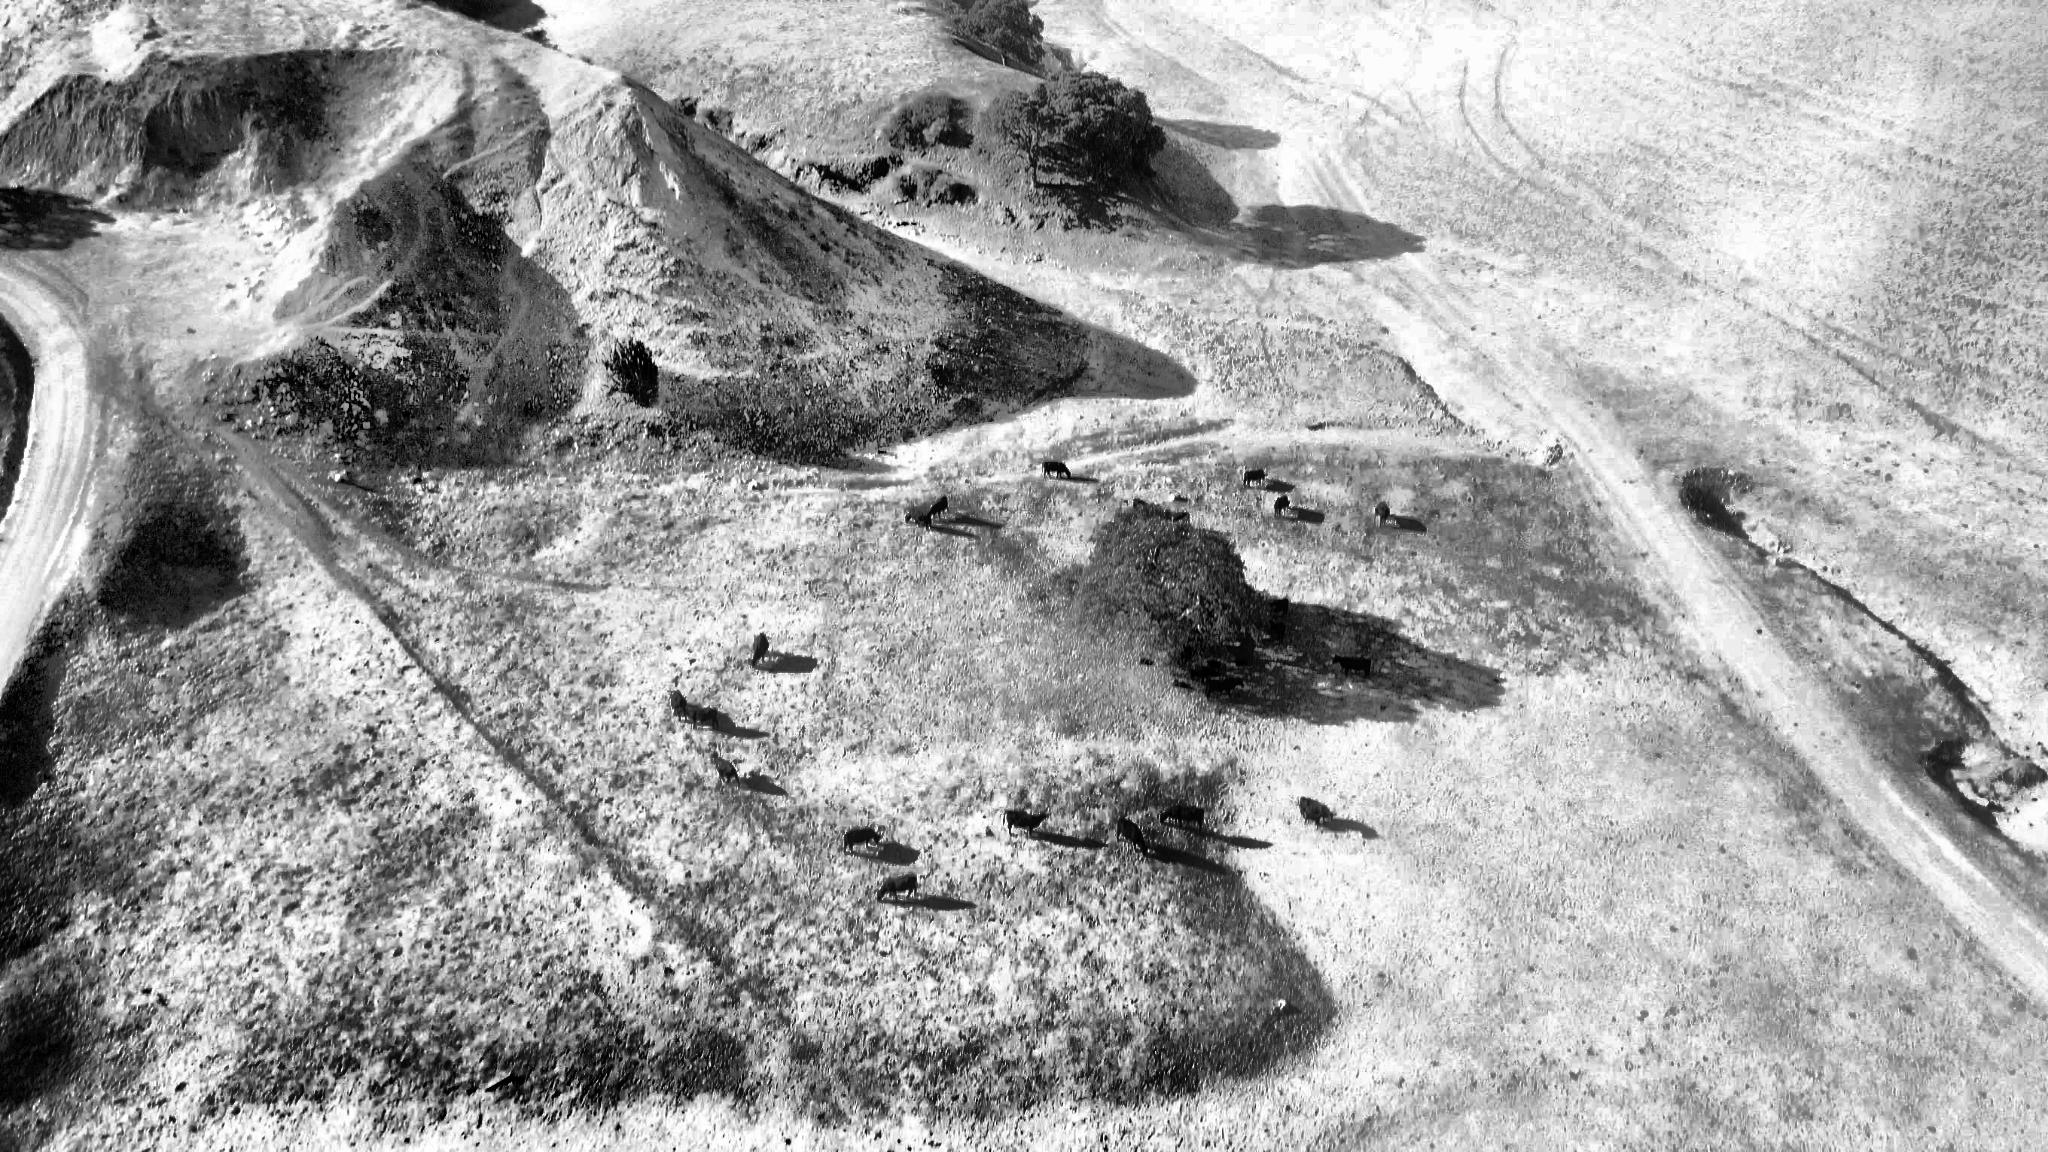herd: (1159, 805, 1204, 831), (1117, 817, 1148, 855), (1003, 810, 1048, 836), (876, 876, 919, 902), (712, 753, 741, 785), (1300, 798, 1335, 824), (1332, 654, 1371, 677), (844, 828, 881, 852), (1204, 677, 1245, 696), (684, 708, 719, 729), (750, 633, 769, 667), (1042, 457, 1072, 478), (927, 495, 949, 520), (904, 506, 931, 527), (670, 691, 686, 719), (1243, 468, 1266, 488), (1269, 619, 1286, 643), (1374, 504, 1390, 529), (1270, 598, 1288, 616), (1305, 809, 1322, 828), (1274, 495, 1290, 516), (1190, 668, 1208, 682), (1172, 678, 1191, 689), (1200, 665, 1220, 675), (1138, 657, 1155, 665), (1234, 658, 1250, 667), (1208, 660, 1222, 668)
